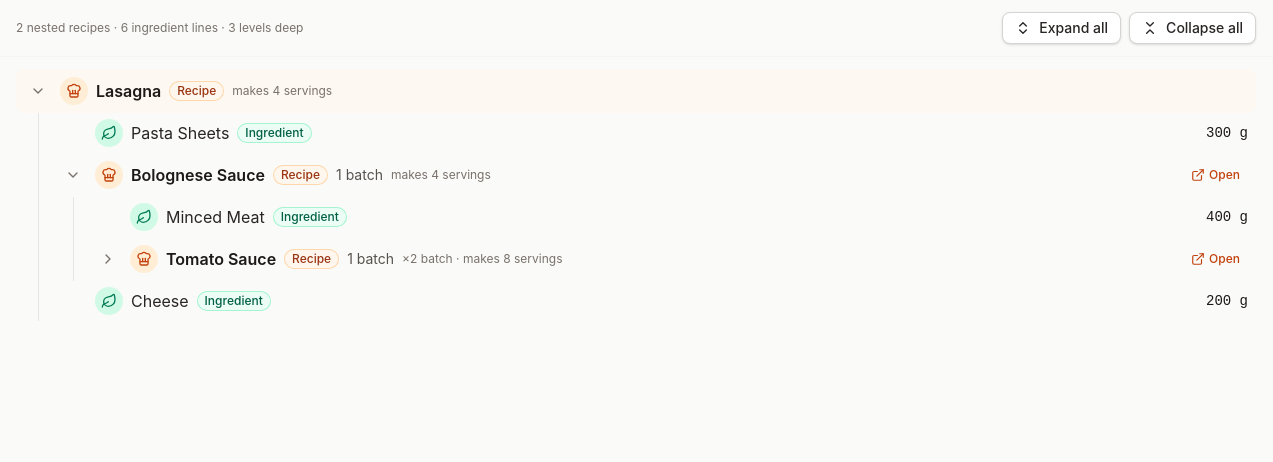
it: RecipeTree › expands and collapses a nested recipe with its toggle button
Step 1. Click the button named "Expand Tomato Sauce" → x=108, y=259, box [94, 245, 122, 273]
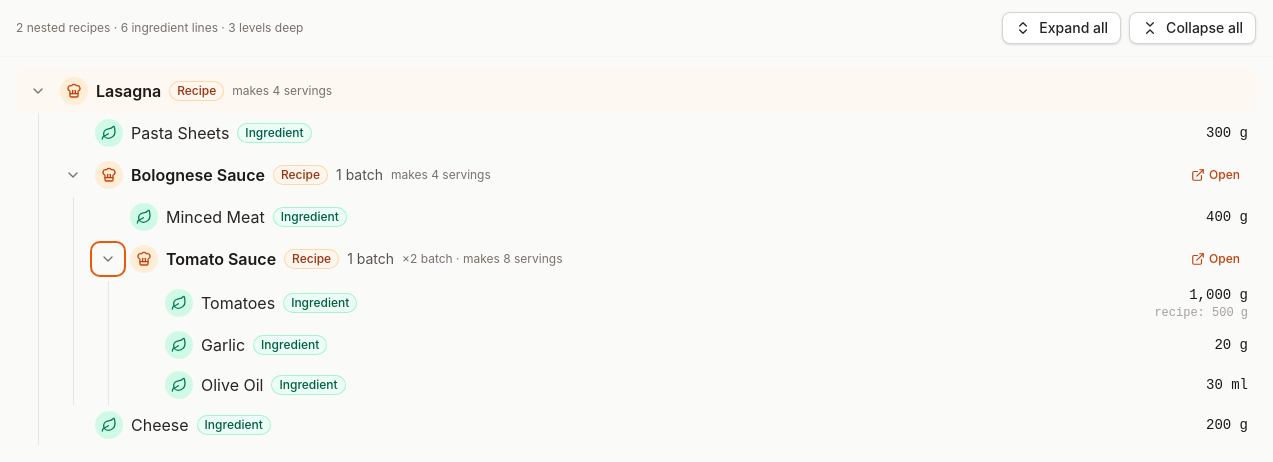
Expected: the text "Tomatoes" is shown, [201, 291, 275, 315]
Expected: the button named "Collapse Tomato Sauce" is expanded
Step 2. Click the button named "Collapse Tomato Sauce" → x=108, y=259, box [94, 245, 122, 273]
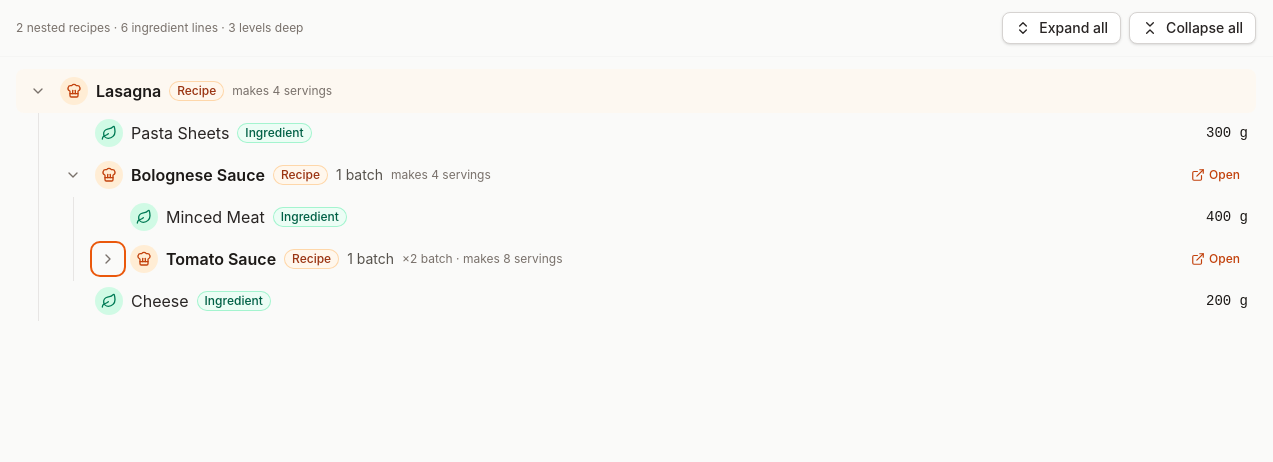
Expected: the text "Tomatoes" is gone
